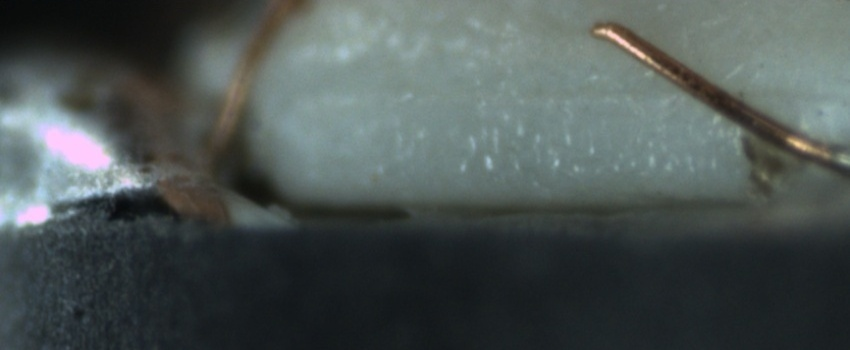DL: (450, 60, 849, 122)
